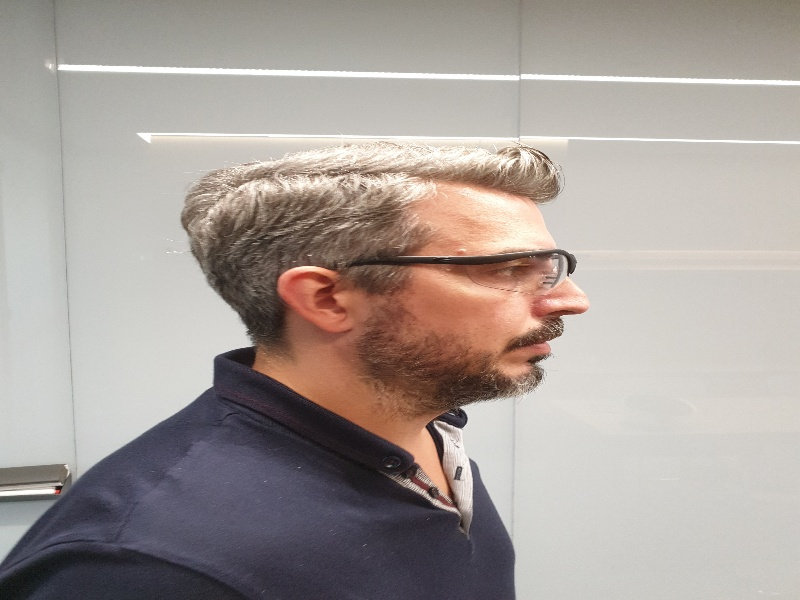Gozluk: (357, 247, 577, 290)
